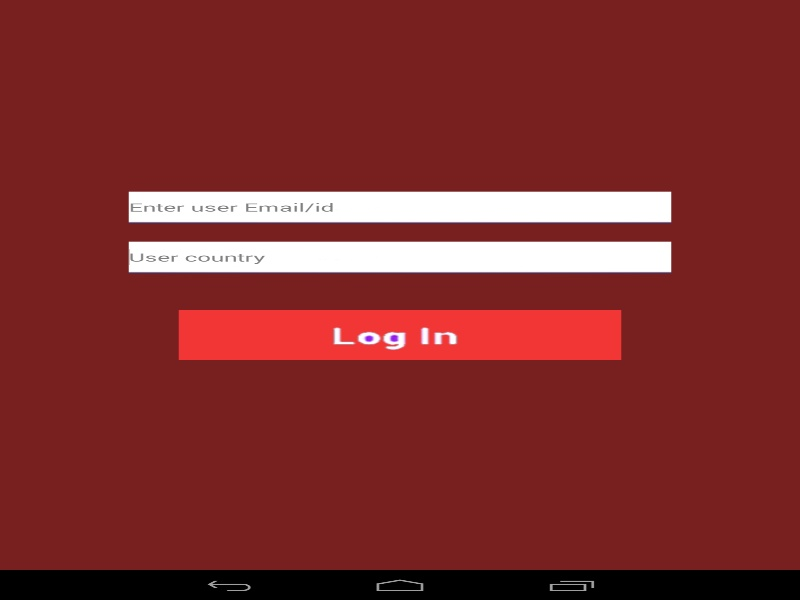Button: (178, 310, 621, 359)
Input: (128, 191, 671, 222), (128, 241, 671, 272)
